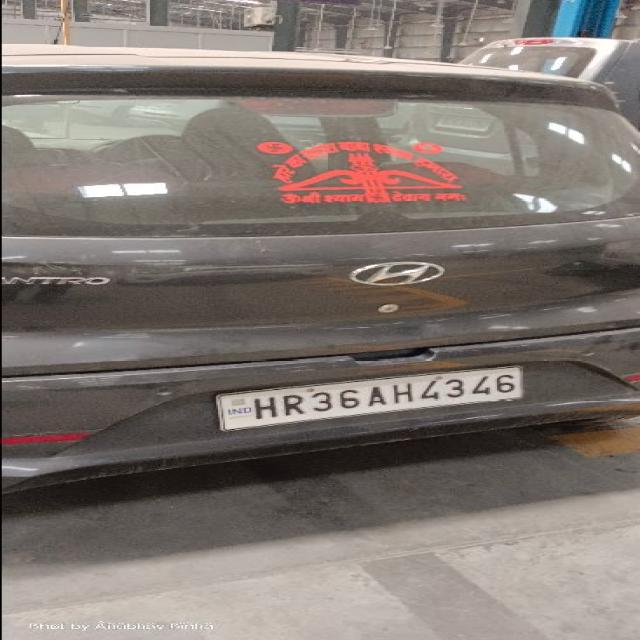license_plate: (213, 364, 525, 432)
